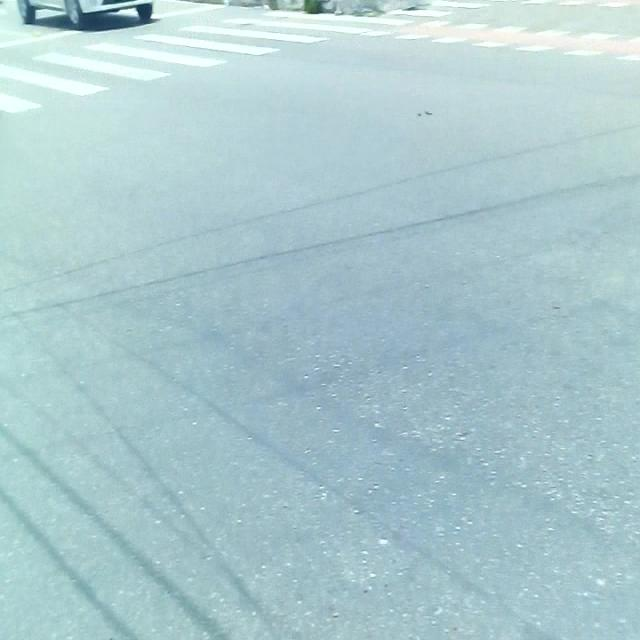crosswalk: (0, 8, 414, 120), (378, 0, 511, 21)
